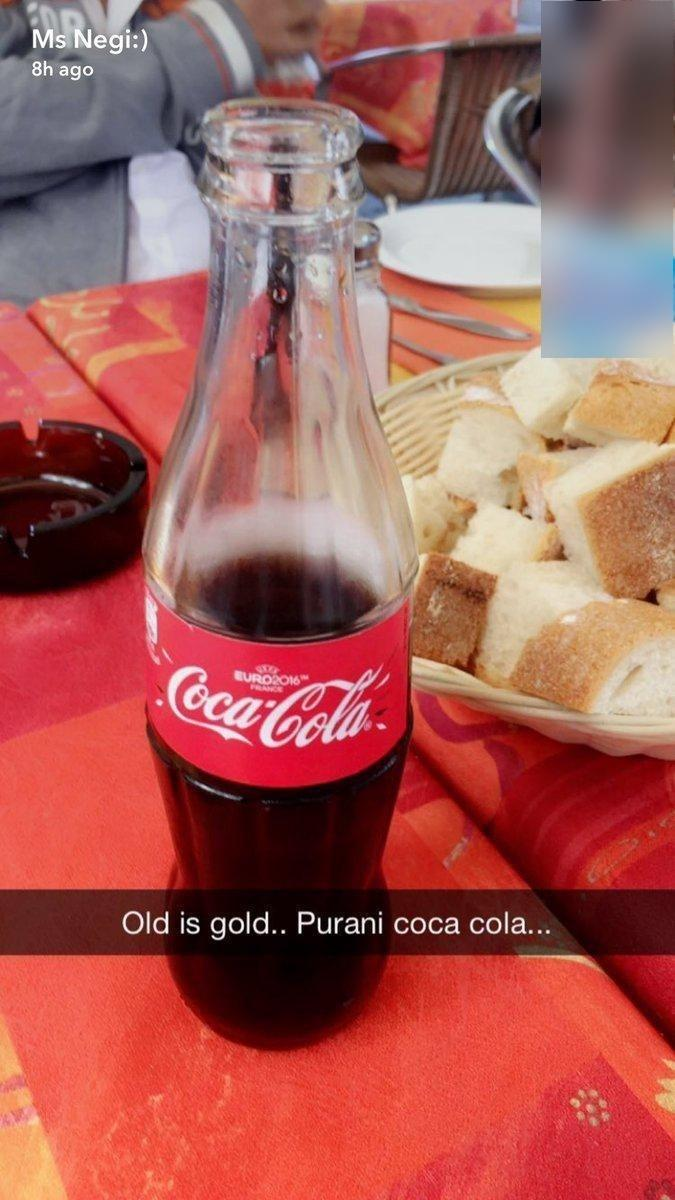bottle-glass: (136, 91, 426, 1053)
